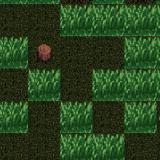Obstacle: (29, 36, 60, 69)
Slow: (59, 5, 160, 36), (92, 68, 160, 100), (60, 133, 124, 160), (125, 36, 160, 69), (124, 100, 157, 134), (60, 100, 92, 133), (28, 68, 60, 101), (0, 36, 28, 68), (0, 101, 27, 133)
